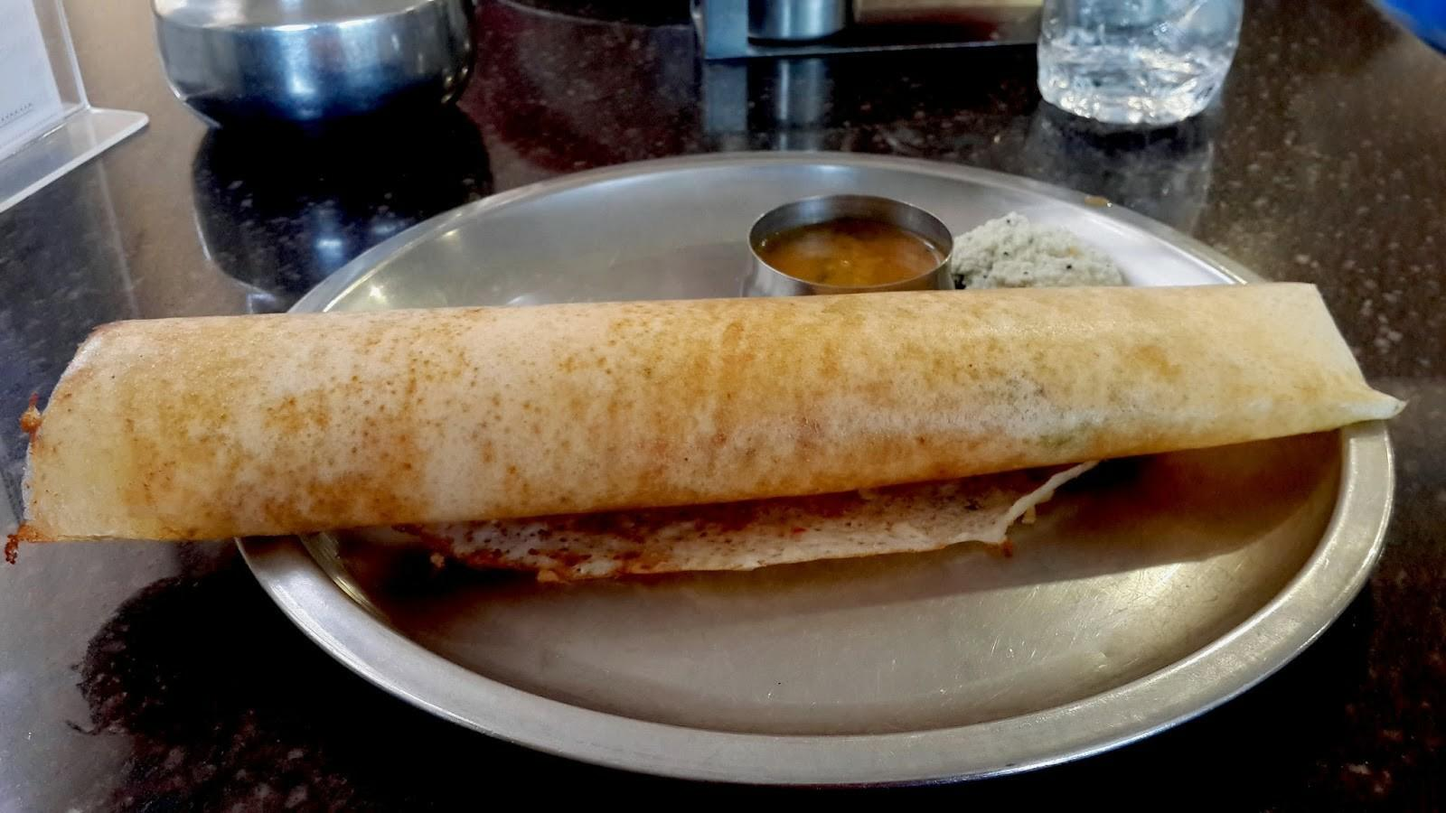CoconutChutney: (953, 212, 1129, 291)
Dosa: (14, 283, 1408, 576)
